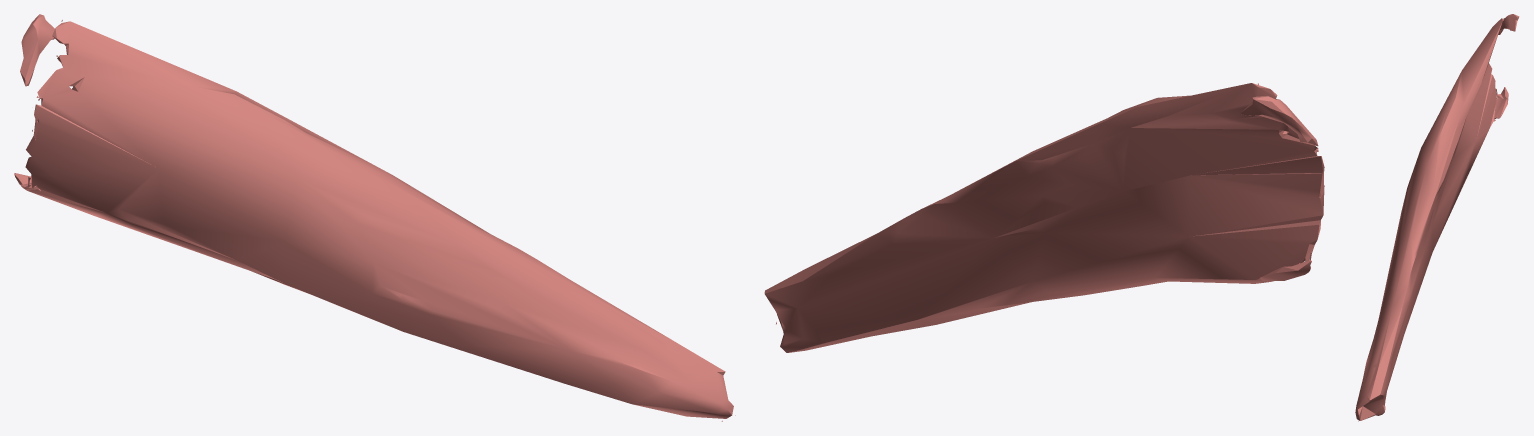
Rendered from fma65199_fj1514m.glb.
3 renders of one model, left to right at view 1: azimuth 30°, elevation 25°; view 2: azimuth 150°, elevation 25°; view 3: azimuth 270°, elevation 25°, orthographic. The views are drawn at different scales.
Visible parts, largest first — view 1: FMA65199_FJ1514M; view 2: FMA65199_FJ1514M; view 3: FMA65199_FJ1514M.
Boxes of the visible parts, bbox=[...] form: FMA65199_FJ1514M: bbox=[14, 14, 735, 421]; FMA65199_FJ1514M: bbox=[764, 83, 1324, 352]; FMA65199_FJ1514M: bbox=[1355, 14, 1519, 421].
Bounding box in the file's own units: 0.0422 × 0.0299 × 0.0176.
